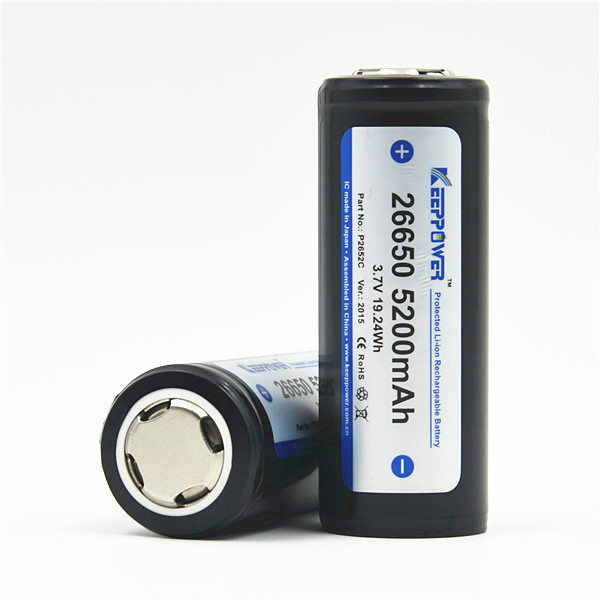Battery: (316, 66, 492, 539), (99, 348, 323, 539)
